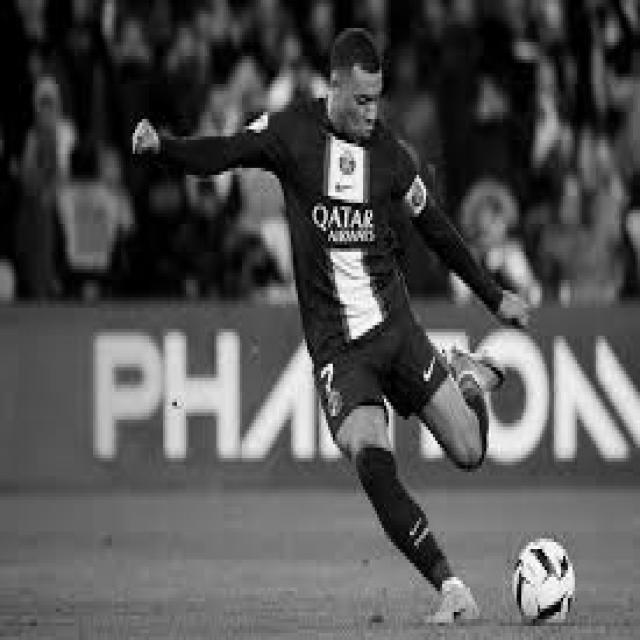football: (507, 525, 594, 637)
